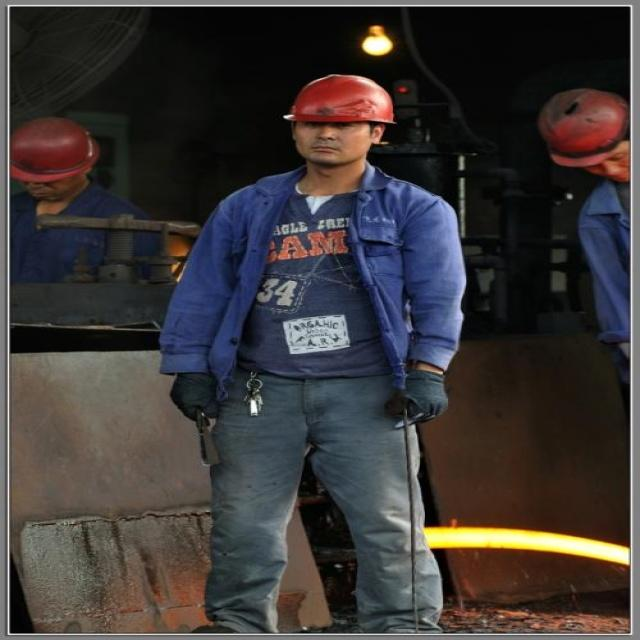helmet: (275, 94, 406, 234), (1, 147, 109, 276), (542, 110, 640, 250)
